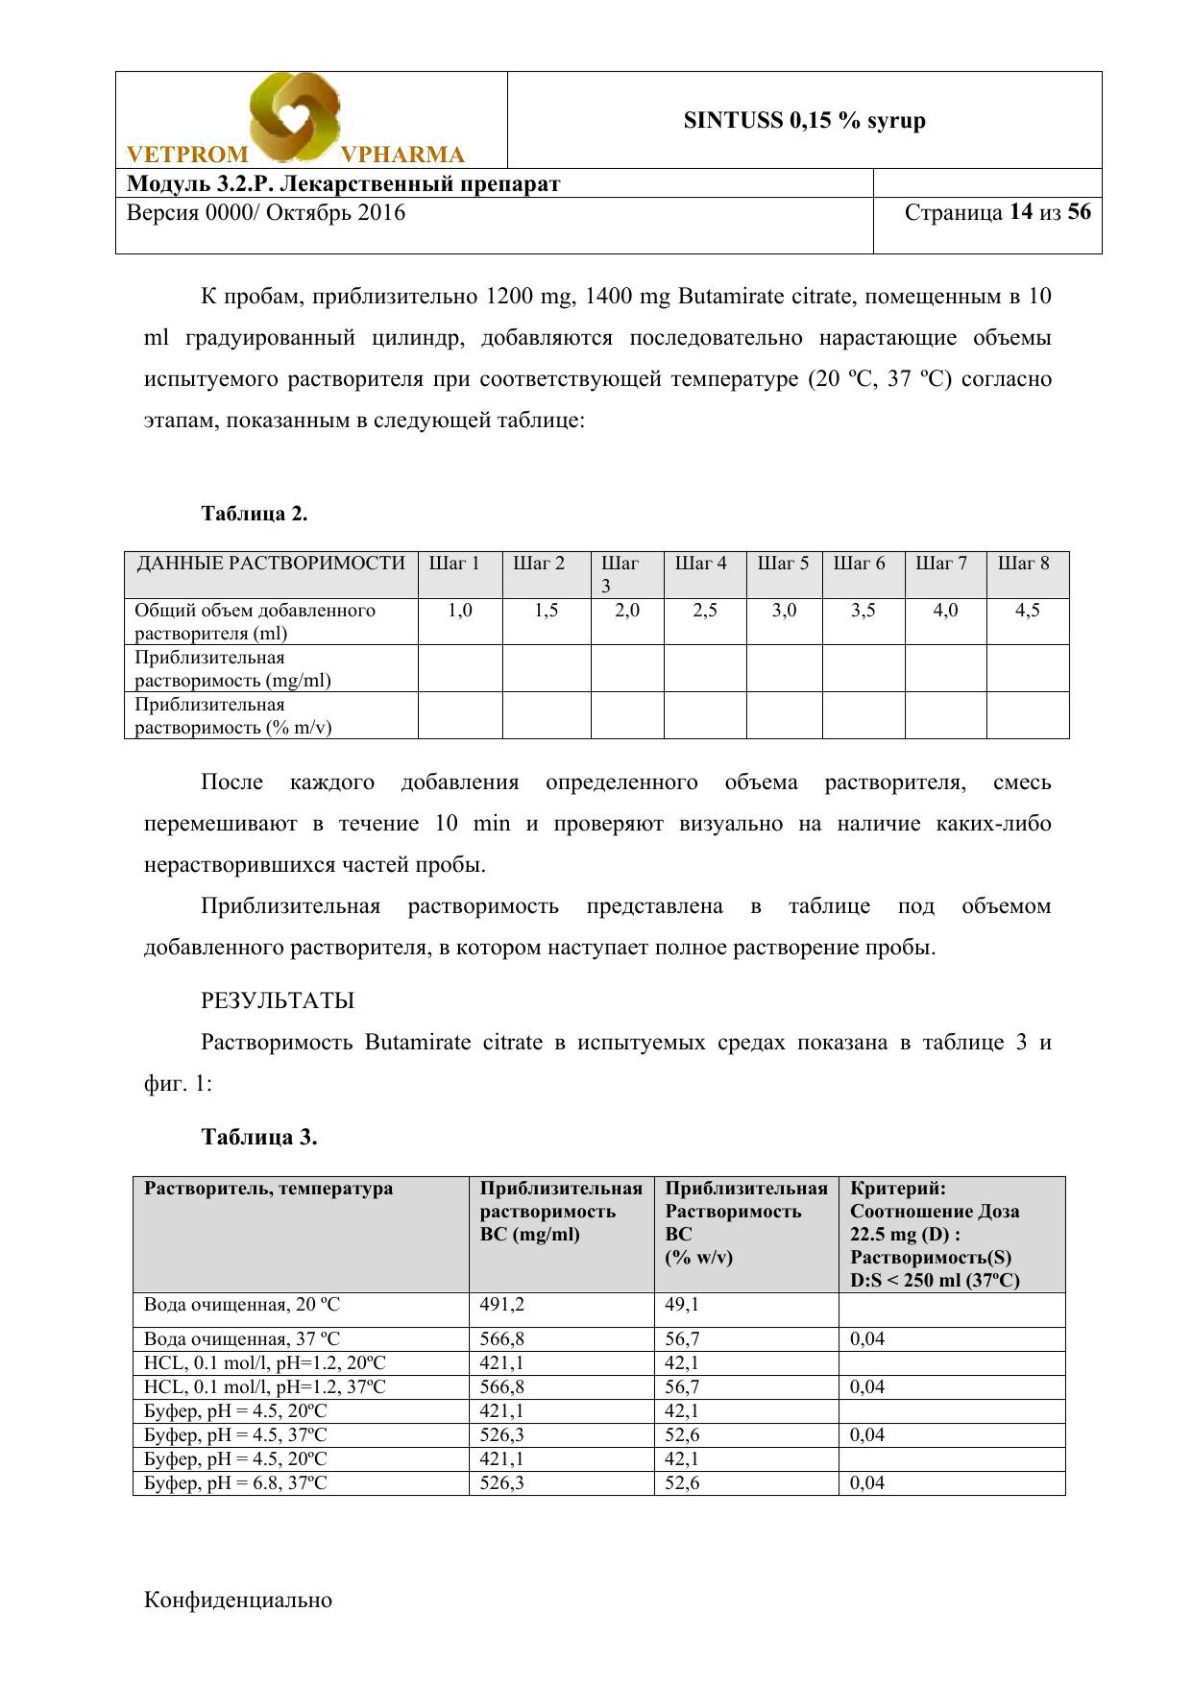full_lined: (132, 1175, 1067, 1497), (123, 550, 1071, 741)
merged_cells: (114, 68, 1104, 255)
